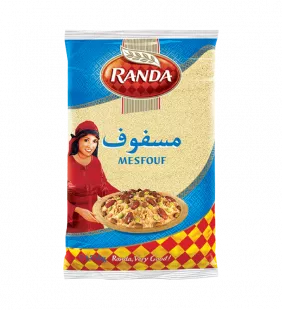RANDA: (52, 20, 229, 285)
